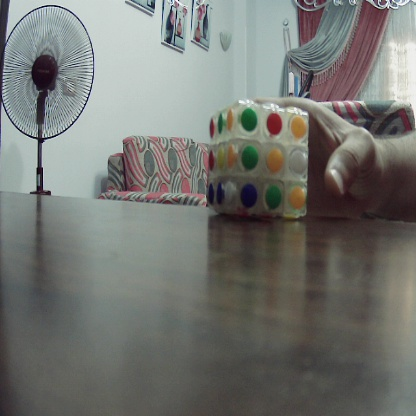Rubix Cube: (207, 104, 311, 219)
